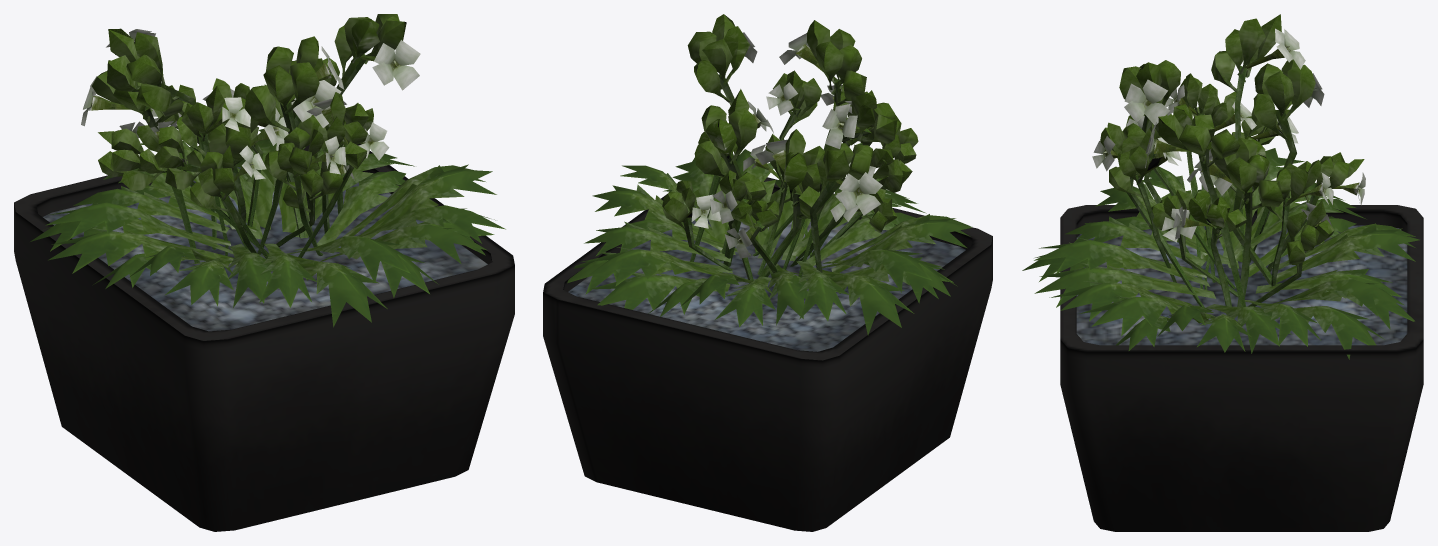
Rendered from PEnysii.FBX.
3 views of the same model, side by side, from view 1: azimuth 30°, elevation 25°; view 2: azimuth 150°, elevation 25°; view 3: azimuth 270°, elevation 25° (orthographic). The views are drawn at different scales.
Parts seen in each view (by area): view 1: Pot2, PEnysii2Mesh, Soil2; view 2: Pot2, PEnysii2Mesh, Soil2; view 3: Pot2, PEnysii2Mesh, Soil2.
Boxes of the visible parts, bbox=[...] form: Pot2: bbox=[14, 143, 514, 531]; PEnysii2Mesh: bbox=[30, 14, 505, 327]; Soil2: bbox=[43, 167, 487, 331]; Pot2: bbox=[543, 177, 992, 531]; PEnysii2Mesh: bbox=[567, 14, 972, 335]; Soil2: bbox=[568, 205, 965, 351]; Pot2: bbox=[1060, 205, 1423, 531]; PEnysii2Mesh: bbox=[1022, 14, 1419, 359]; Soil2: bbox=[1076, 225, 1407, 345].
Bounding box in the file's own units: 12.78 × 13.08 × 11.65.
1 material, 1 textured.
